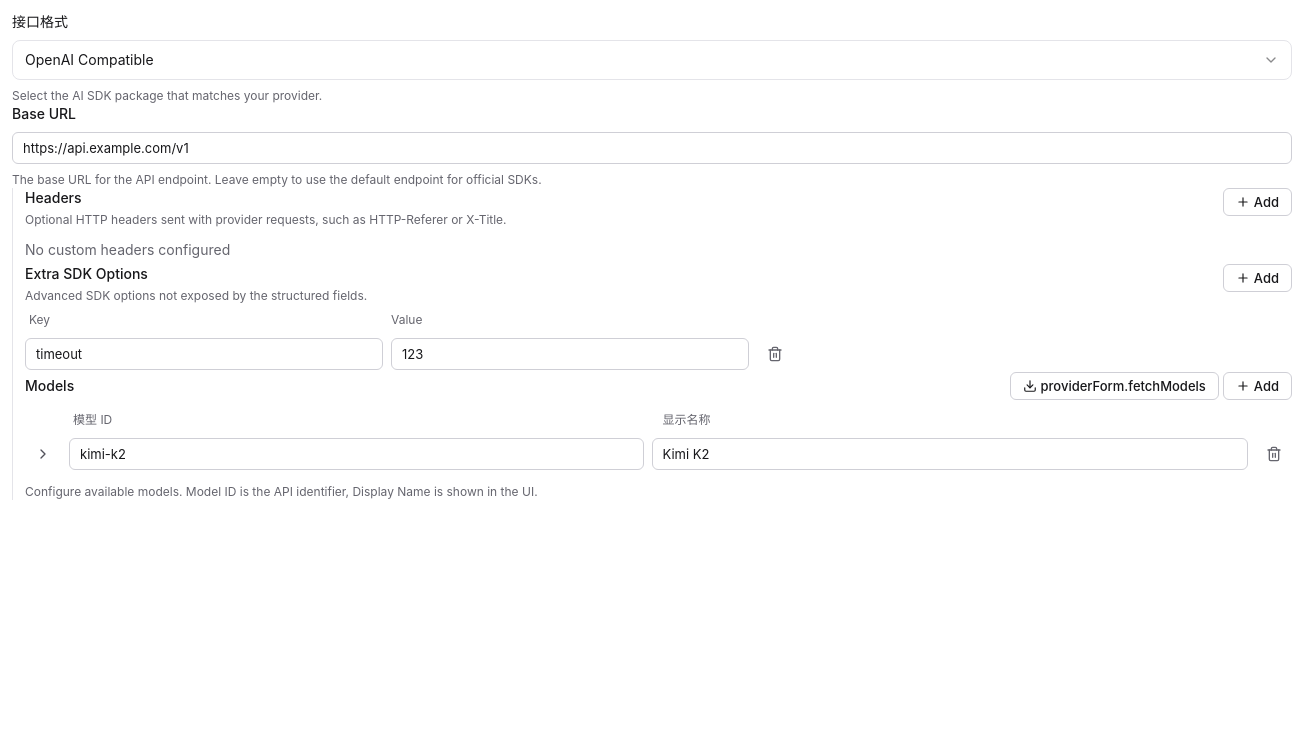
OpenCodeFormFields › rejects reserved extra-option name apiKey and restores the original row key
The image size is (1304, 732).
Type "apiKey" into the 1st field showing "timeout" at x=204, y=354, box 25,338 -> 383,370
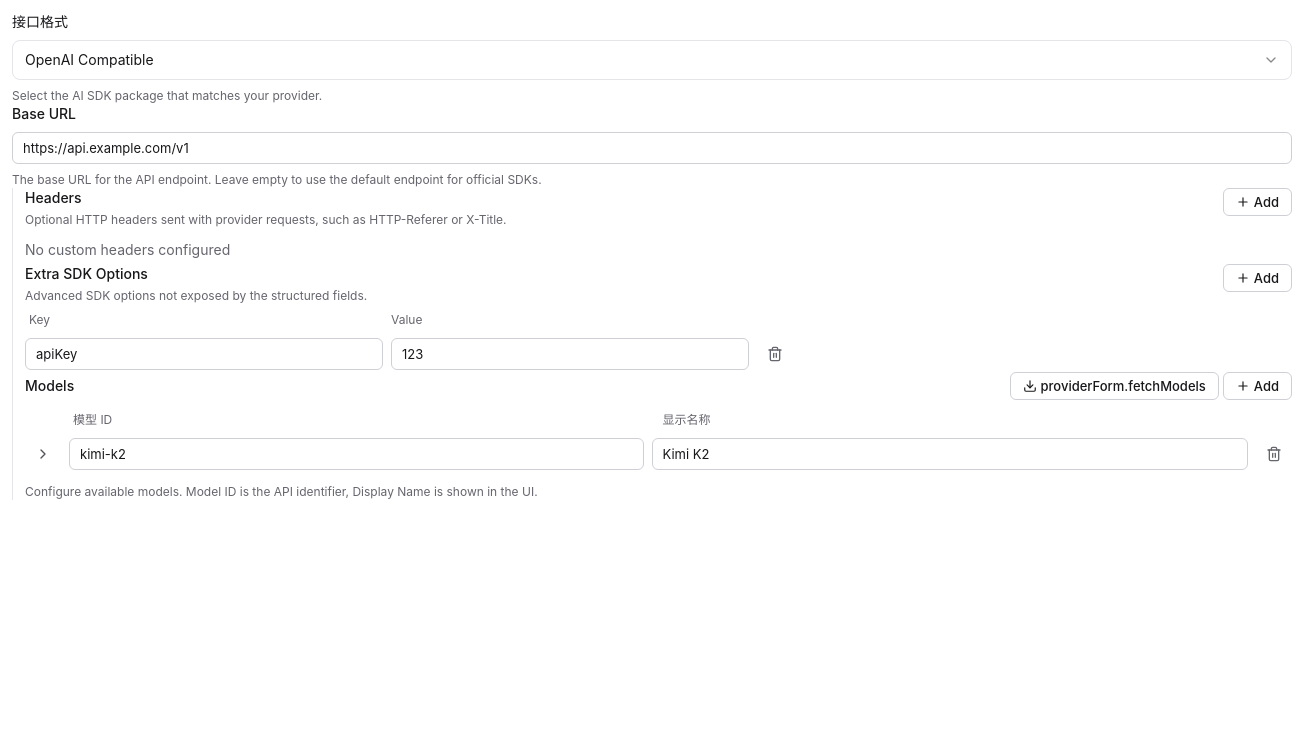
Leave the 1st field showing "timeout", box 25,338 -> 383,370
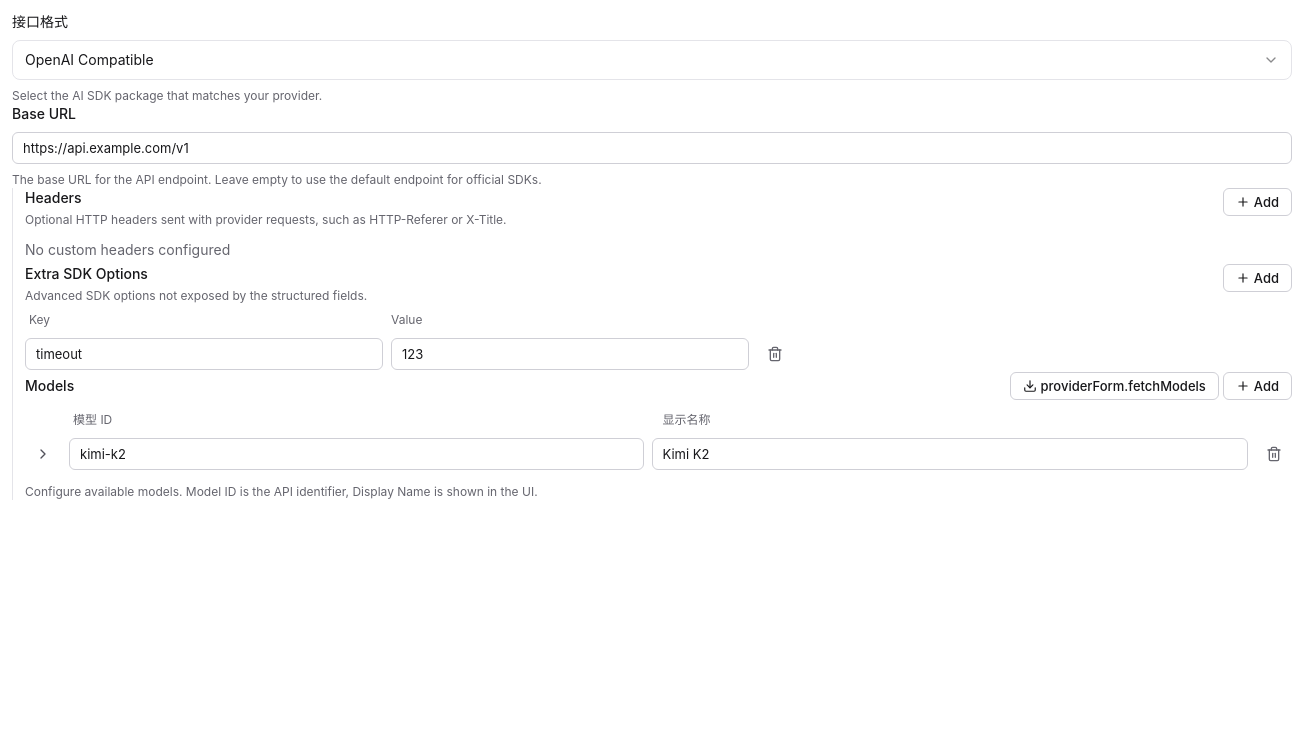
expect the 1st field showing "timeout" holds "timeout": met, box 25,338 -> 383,370
